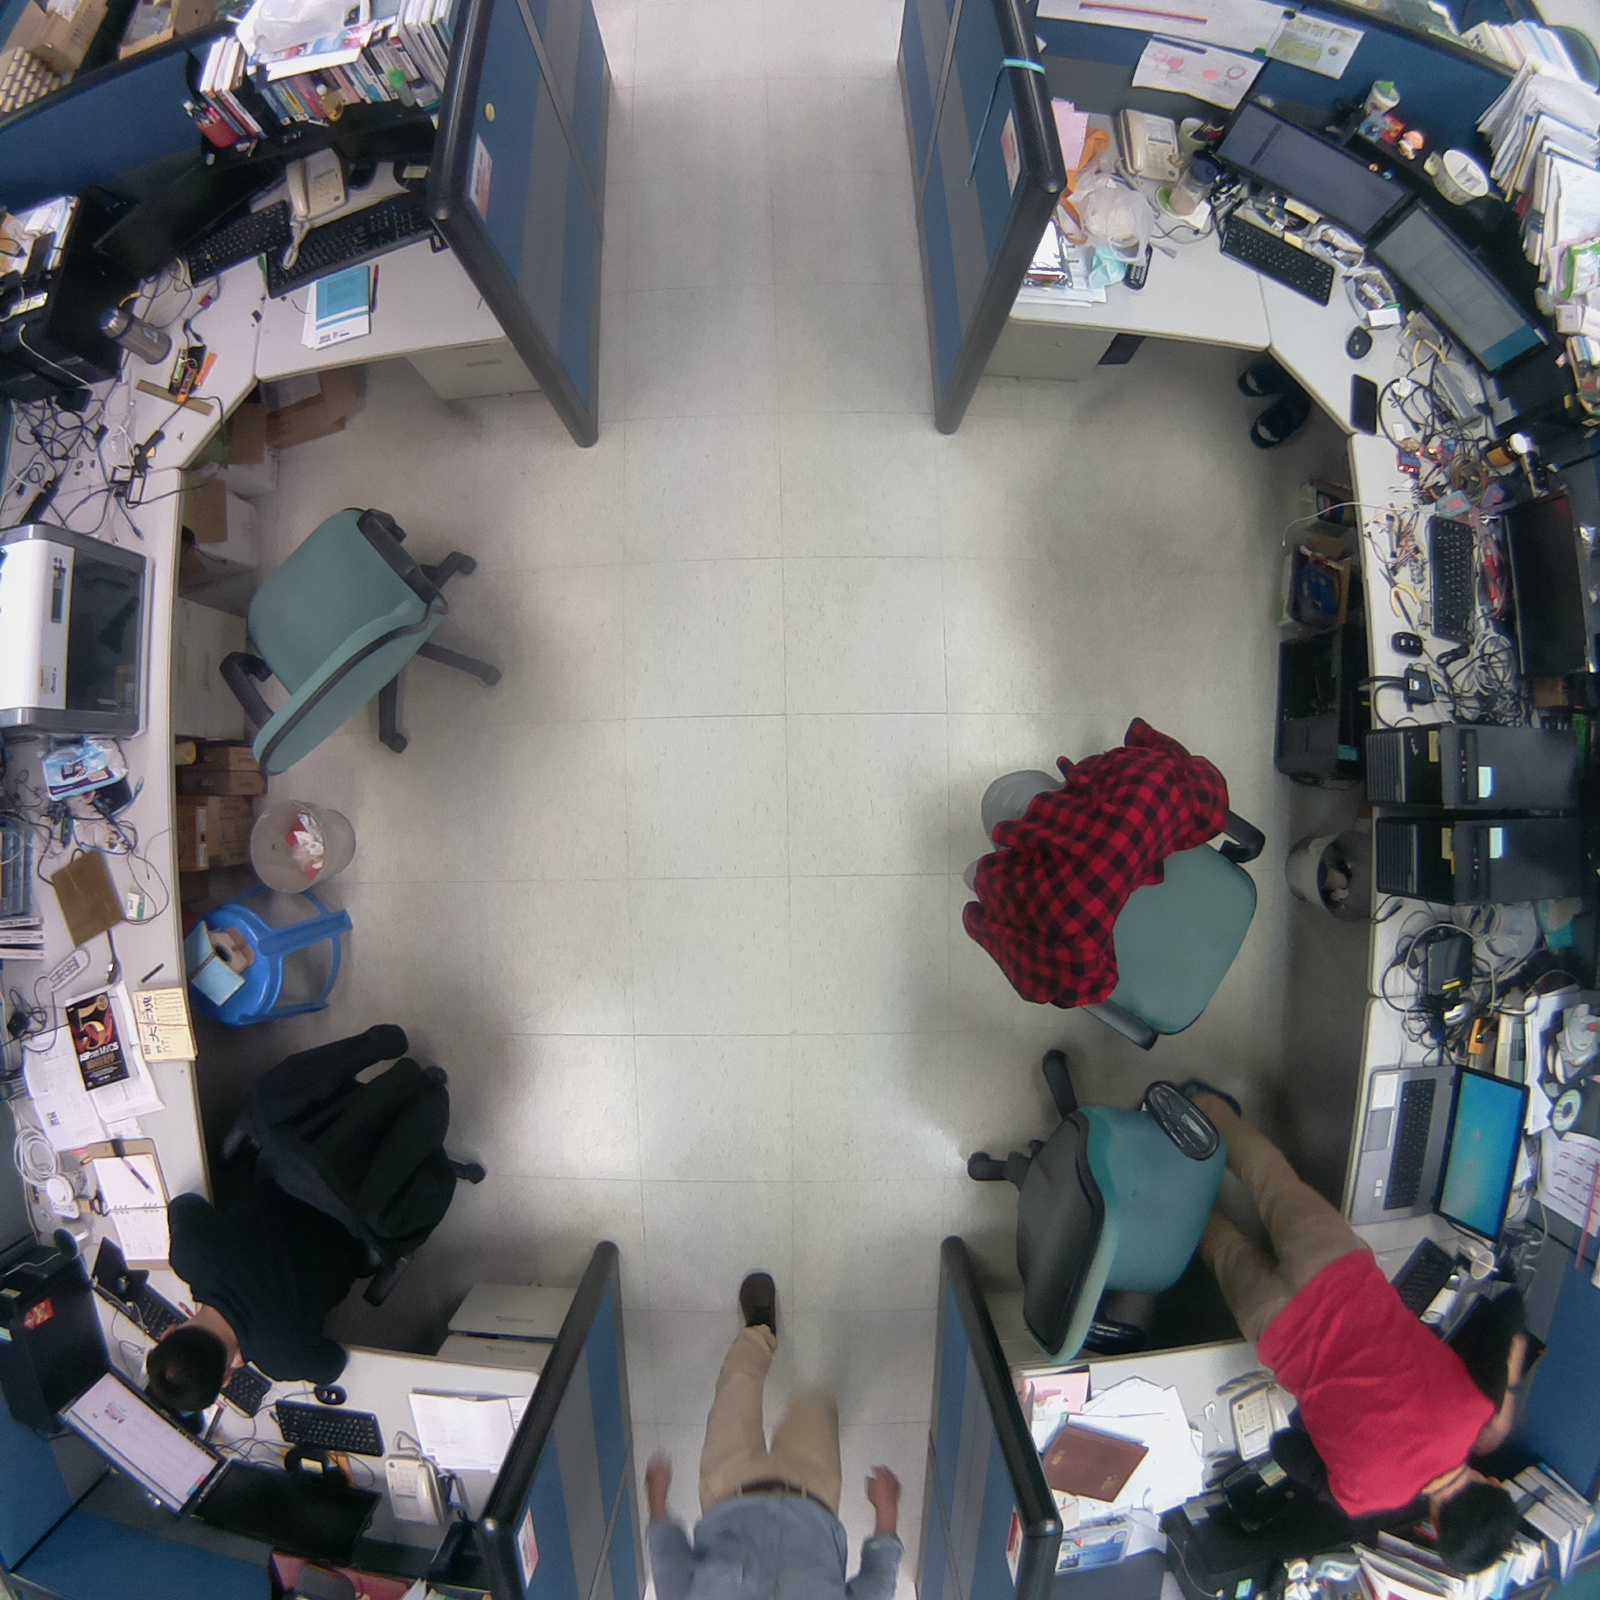chair: (937, 696, 1273, 1073), (206, 468, 529, 804), (953, 1037, 1235, 1368)
head: (1412, 1446, 1529, 1587), (140, 1295, 236, 1421)
sitting: (131, 1006, 499, 1420)
standing: (1160, 1068, 1535, 1587)
walking: (639, 1257, 910, 1600)
